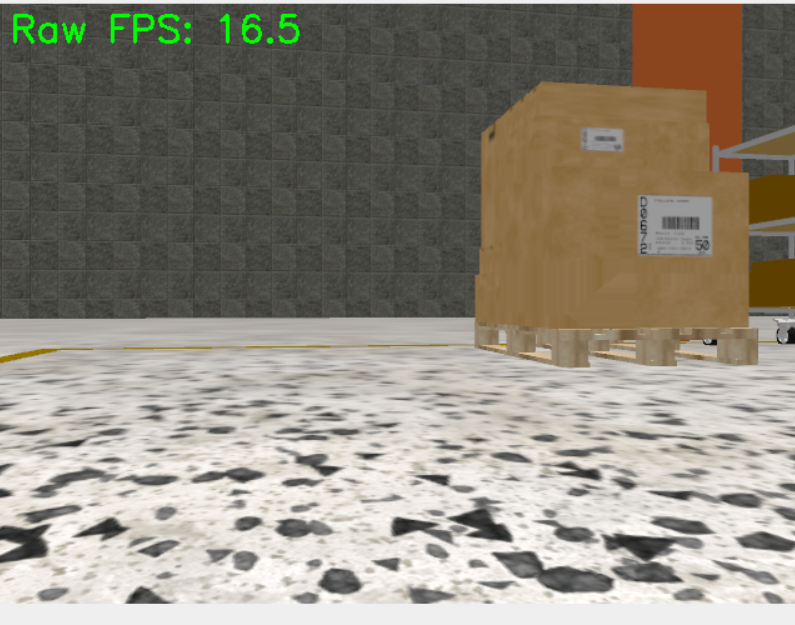barcode: (636, 194, 714, 257), (580, 126, 625, 154)
